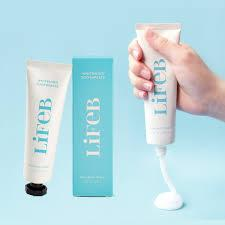toothpaste: (15, 55, 70, 187)
